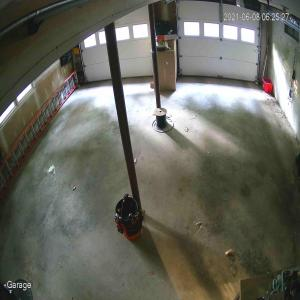tool bucket: (114, 193, 143, 240)
